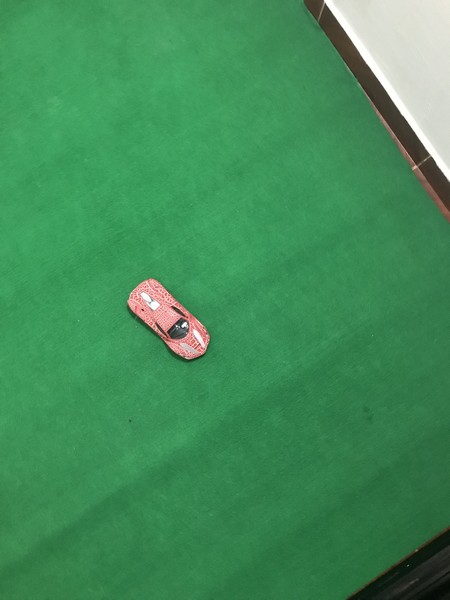RC: (125, 276, 213, 362)
